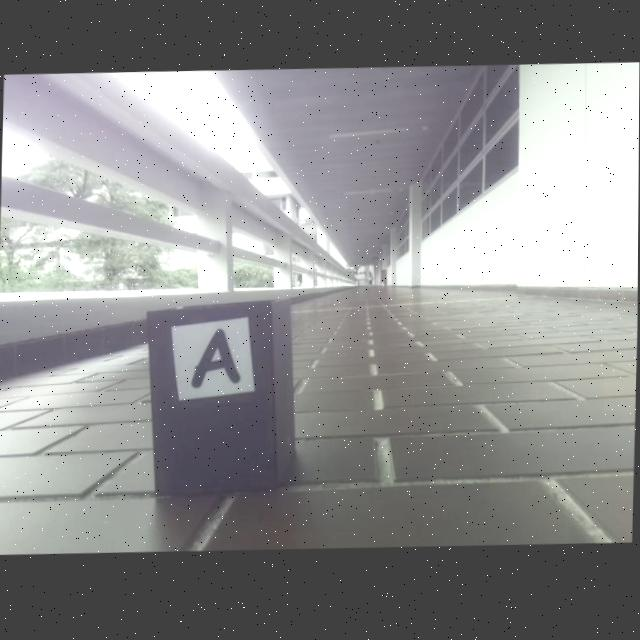A: (190, 330, 241, 391)
